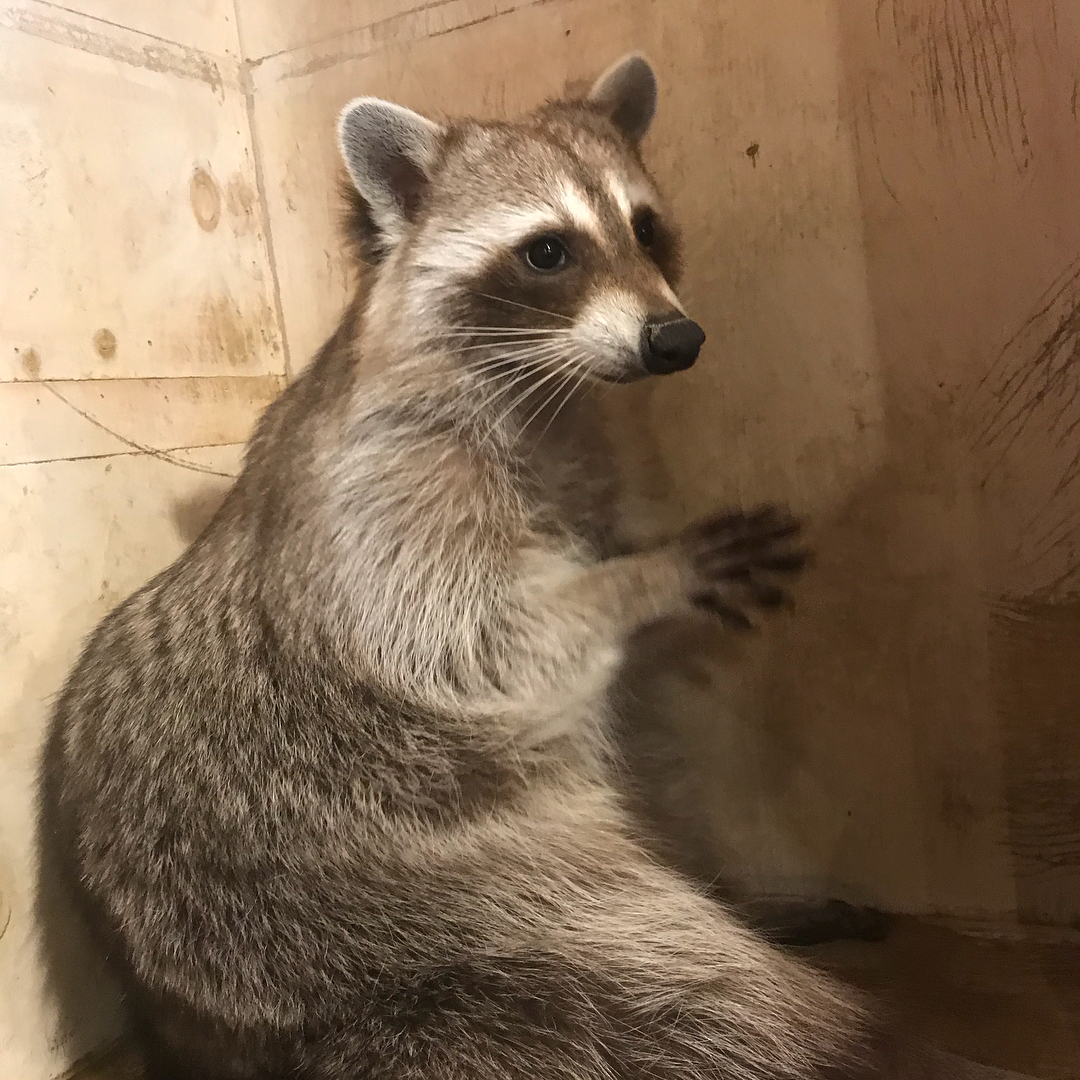raccoon: (52, 30, 887, 1080)
